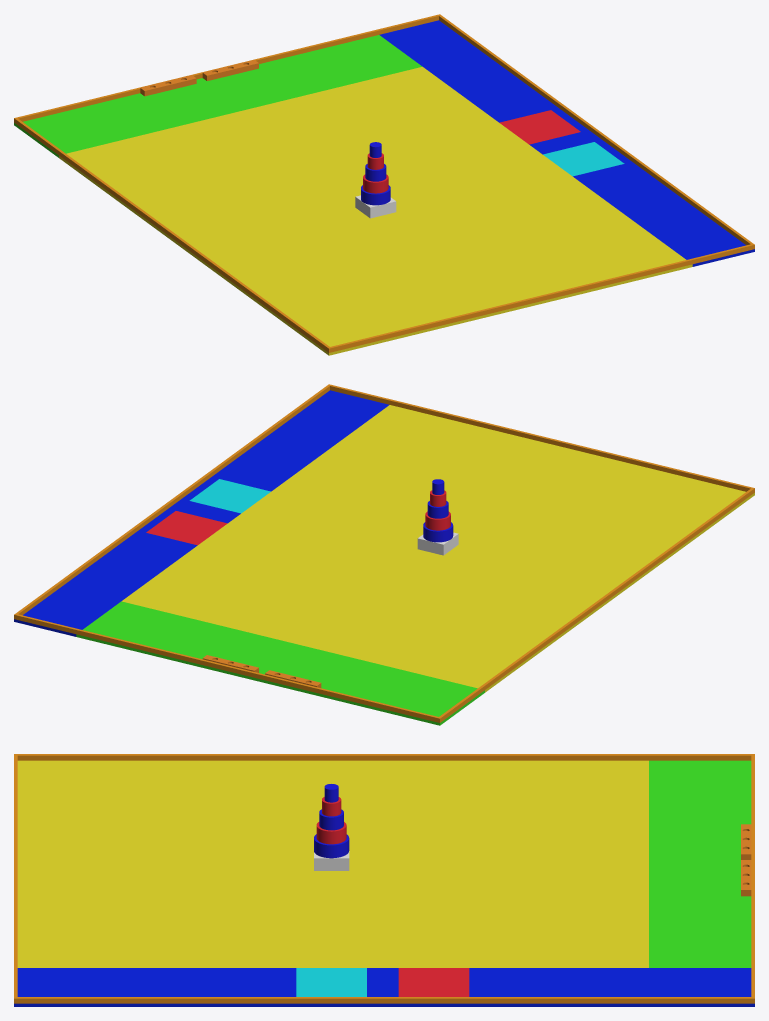
The model's file is online_game_field.dae.
The picture shows the model from 3 angles, top to bottom: view 1: azimuth 30°, elevation 25°; view 2: azimuth 150°, elevation 25°; view 3: azimuth 270°, elevation 25°; orthographic projection. The views are drawn at different scales.
Parts seen in each view (by area): view 1: Online_Game_Field; view 2: Online_Game_Field; view 3: Online_Game_Field.
Part boxes in pixels (box(x1,y1,x2,y2)): Online_Game_Field: box(14, 14, 754, 355); Online_Game_Field: box(14, 384, 754, 725); Online_Game_Field: box(14, 754, 754, 1006).
Size of the model in its own units: 8.2 by 10.5 by 1.25.
